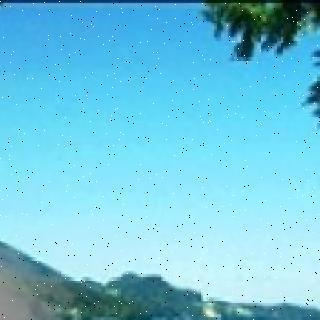smoke: (0, 240, 114, 320)
